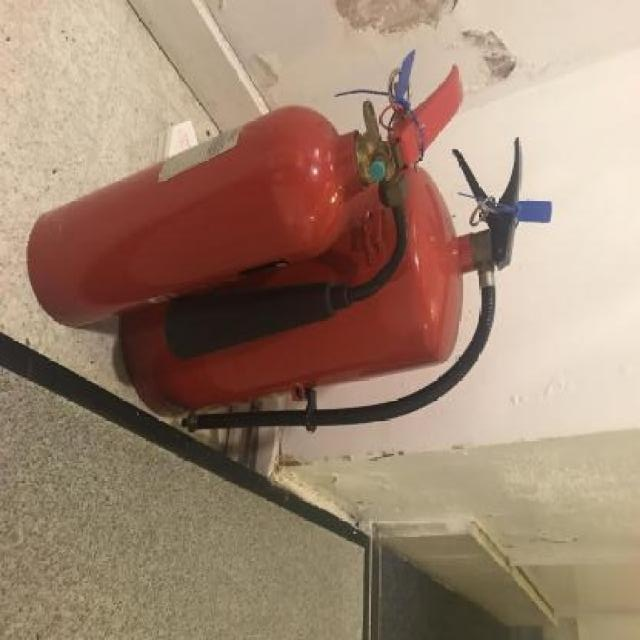fire extinguisher: (25, 49, 463, 362), (123, 138, 552, 436)
